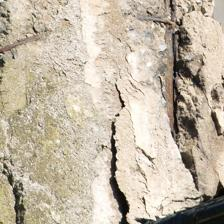Crack: (29, 0, 210, 90), (8, 53, 75, 224), (176, 85, 203, 112)
